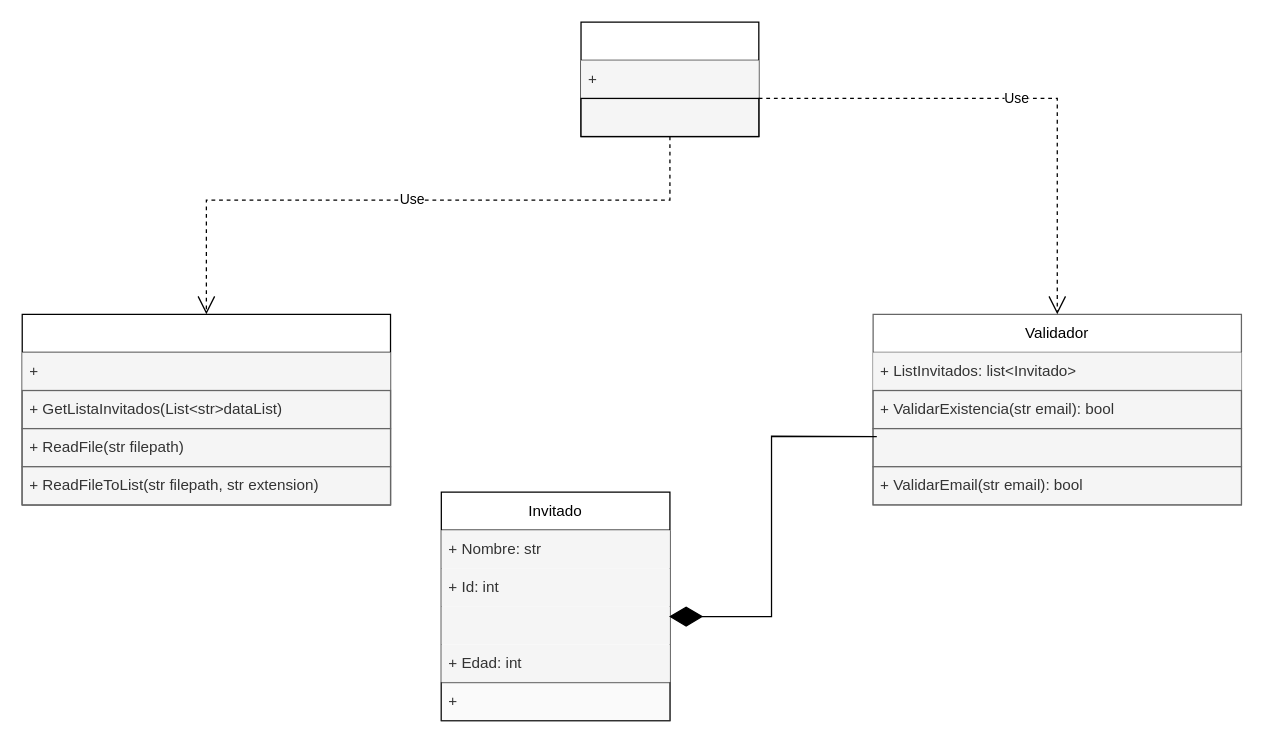
The diagram is 1264 pixels wide and 743 high, and some of its shapes have lost their labels. The shapes that lost their labels are listed below. From the top down, each one's box as (x1, y1, x2, y2) in pixels, then its label:
(580, 21, 759, 137): Taquilla
(580, 97, 759, 137): Main(string[] args)
(21, 313, 391, 505): ManejoArchivos
(872, 427, 1241, 467): + ValidarEdad(str email): bool
(441, 606, 669, 644): + Email: str
